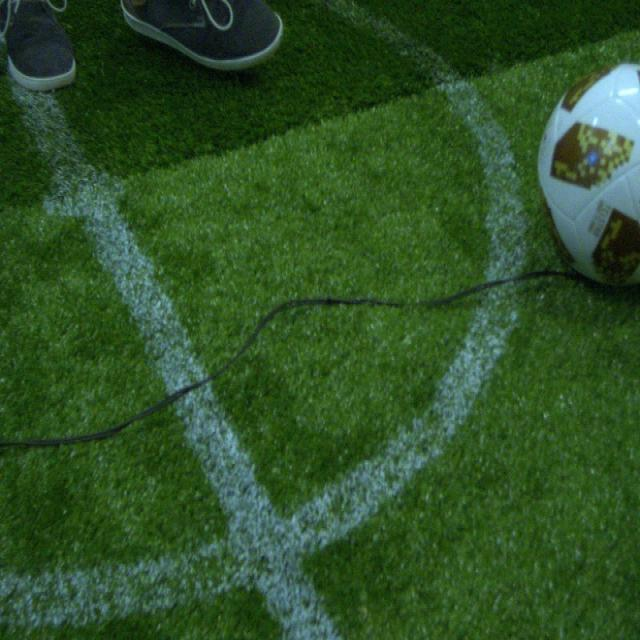ball: (533, 57, 640, 295)
